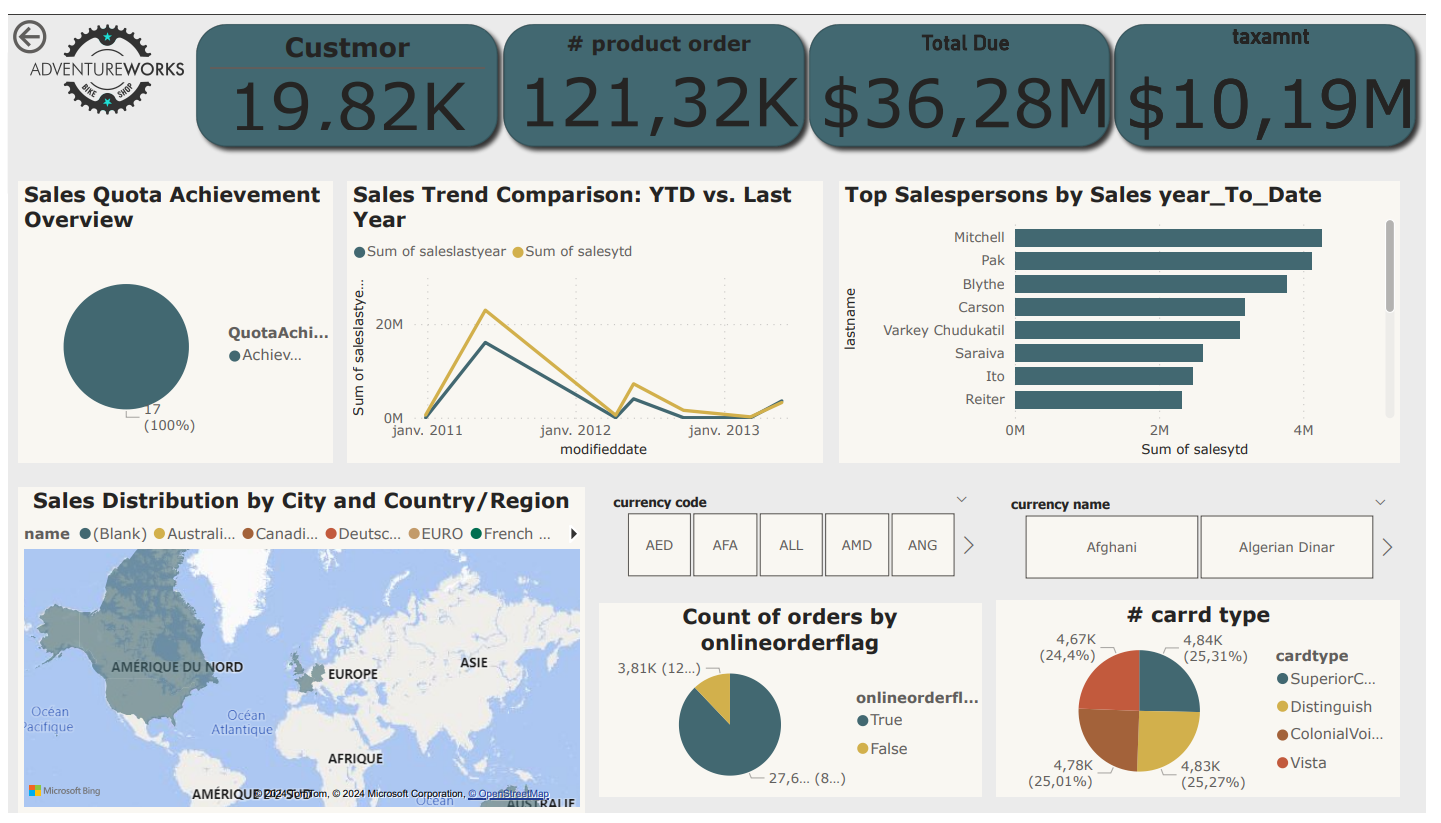

The page's visual inventory and layout, read from the dashboard file:
{"tool":"powerbi","page":{"name":"Page 1","canvas":[1280,720],"ordinal":0},"visuals":[{"type":"shape","box":[991.3,0,289,127.9],"z":0},{"type":"shape","box":[439.4,0,289,127.9],"z":1000},{"type":"shape","box":[715.3,0,289,127.9],"z":2000},{"type":"shape","box":[162.3,0,289,127.9],"z":3000},{"type":"card","title":"taxamnt","fields":{"Values":["salesorderheader.taxamt"]},"box":[1000.7,8.3,279.5,113.7],"z":4000},{"type":"image","box":[0,0,180,98.3],"z":5000},{"type":"card","title":"      Custmor","fields":{"Values":["customer.customerid"]},"box":[183.1,13.8,247.7,93.8],"z":6000},{"type":"card","title":"# product order","fields":{"Values":["salesorderdetail.productid"]},"box":[450,14.2,275.9,99.5],"z":7000},{"type":"card","title":"Total Due","fields":{"Values":["salesperson.TotalSales"]},"box":[726,14.2,278.3,100.7],"z":8000},{"type":"pieChart","title":"# carrd type","fields":{"Category":["creditcard.cardtype"],"Y":["creditcard.cardtype"]},"box":[892.9,528.6,364.3,177.1],"z":9000},{"type":"lineChart","title":"Sales Trend Comparison: YTD vs. Last Year","fields":{"Y":["salesperson.saleslastyear","salesperson.salesytd"],"Category":["salesperson.modifieddate"]},"box":[307.1,150,428.6,254.3],"z":10000},{"type":"pieChart","title":"Sales Quota Achievement Overview","fields":{"Category":["salesperson.QuotaAchieved"],"Y":["salesperson.QuotaAchieved"]},"box":[10,150,284.3,254.3],"z":11000},{"type":"actionButton","box":[0,0,100,40],"z":12000},{"type":"barChart","title":"Top  Salespersons by Sales year_To_Date","fields":{"Category":["h.lastname"],"Y":["salesperson.salesytd"]},"box":[751.4,150,505.7,254.3],"z":13000},{"type":"pieChart","title":"Count of orders by onlineorderflag","fields":{"Category":["salesorderheader.onlineorderflag"],"Y":["salesorderheader.orderdate"]},"box":[534.3,531.4,344.3,174.3],"z":14000},{"type":"slicer","fields":{"Values":["currency.currencycode"]},"box":[534.3,427.1,344.3,87.1],"z":15000},{"type":"filledMap","title":"Sales Distribution by City and Country/Region","fields":{"Series":["currency.name"],"Category":["salesterritory.countryregioncode","salesterritory.group","storewithaddresses.city","storewithaddresses.countryregionname"]},"box":[10,425.7,511.4,294.3],"z":16000},{"type":"card","title":"taxamnt","fields":{"Values":["salesorderheader.taxamt"]},"box":[1000.5,8.3,279.5,113.7],"z":17000},{"type":"slicer","fields":{"Values":["currency.name"]},"box":[892.9,428.6,364.3,87.1],"z":18000}]}

Visuals, with their boxes in screenshot pixels (x1, y1, x2, y2), scaled from the page's 1280x720 canvas onto the 1441x823 screenshot:
shape: l=1116, t=0, r=1440, b=146
shape: l=495, t=0, r=820, b=146
shape: l=805, t=0, r=1131, b=146
shape: l=183, t=0, r=508, b=146
"taxamnt" card: l=1127, t=9, r=1440, b=139
image: l=0, t=0, r=203, b=112
"      Custmor" card: l=206, t=16, r=485, b=123
"# product order" card: l=507, t=16, r=817, b=130
"Total Due" card: l=817, t=16, r=1131, b=131
"# carrd type" pieChart: l=1005, t=604, r=1415, b=807
"Sales Trend Comparison: YTD vs. Last Year" lineChart: l=346, t=171, r=828, b=462
"Sales Quota Achievement Overview" pieChart: l=11, t=171, r=331, b=462
actionButton: l=0, t=0, r=113, b=46
"Top  Salespersons by Sales year_To_Date" barChart: l=846, t=171, r=1415, b=462
"Count of orders by onlineorderflag" pieChart: l=602, t=607, r=989, b=807
slicer - currency.currencycode: l=602, t=488, r=989, b=588
"Sales Distribution by City and Country/Region" filledMap: l=11, t=487, r=587, b=822
"taxamnt" card: l=1126, t=9, r=1440, b=139
slicer - currency.name: l=1005, t=490, r=1415, b=589
